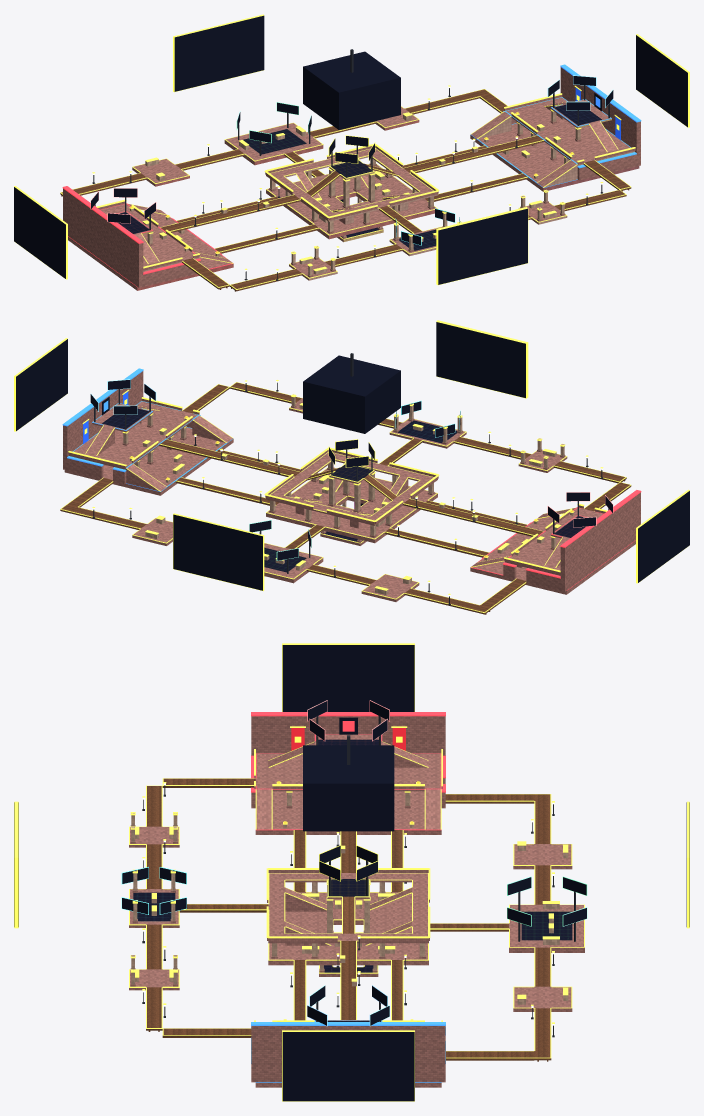
The model's file is skyreach_map_v12.glb.
3 views of the same model, one above another, from view 1: azimuth 30°, elevation 25°; view 2: azimuth 150°, elevation 25°; view 3: azimuth 270°, elevation 25° (orthographic). The views are drawn at different scales.
Visible parts, largest first — view 1: skyreach_map_v12; view 2: skyreach_map_v12; view 3: skyreach_map_v12.
Boxes of the visible parts, x1,y1,x2,y2 form: skyreach_map_v12: [14, 14, 689, 291]; skyreach_map_v12: [14, 320, 689, 614]; skyreach_map_v12: [14, 643, 689, 1101].
Bounding box in the file's own units: 218 × 59.62 × 160.
31 materials, 16 textured.
